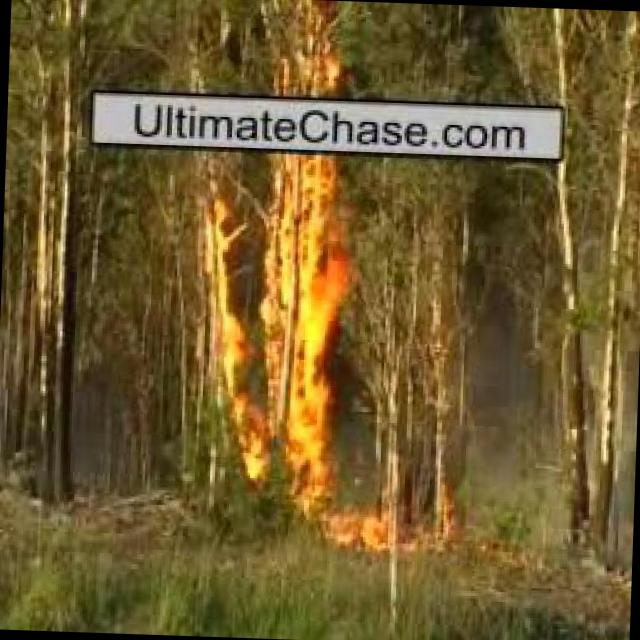Fire: (191, 152, 352, 493), (273, 12, 345, 94), (320, 502, 408, 557)
